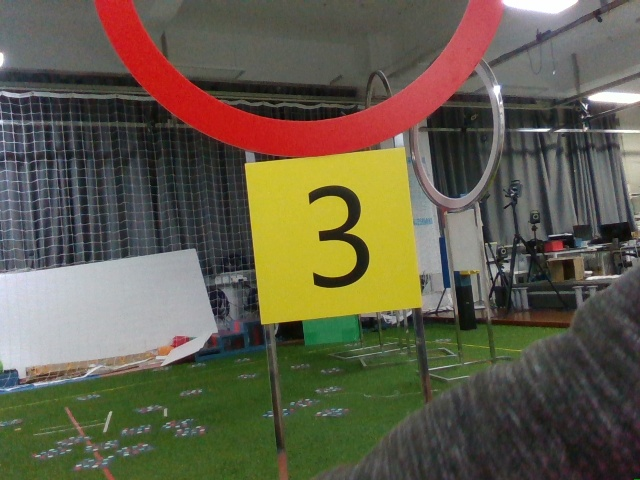target: (252, 156, 409, 302)
